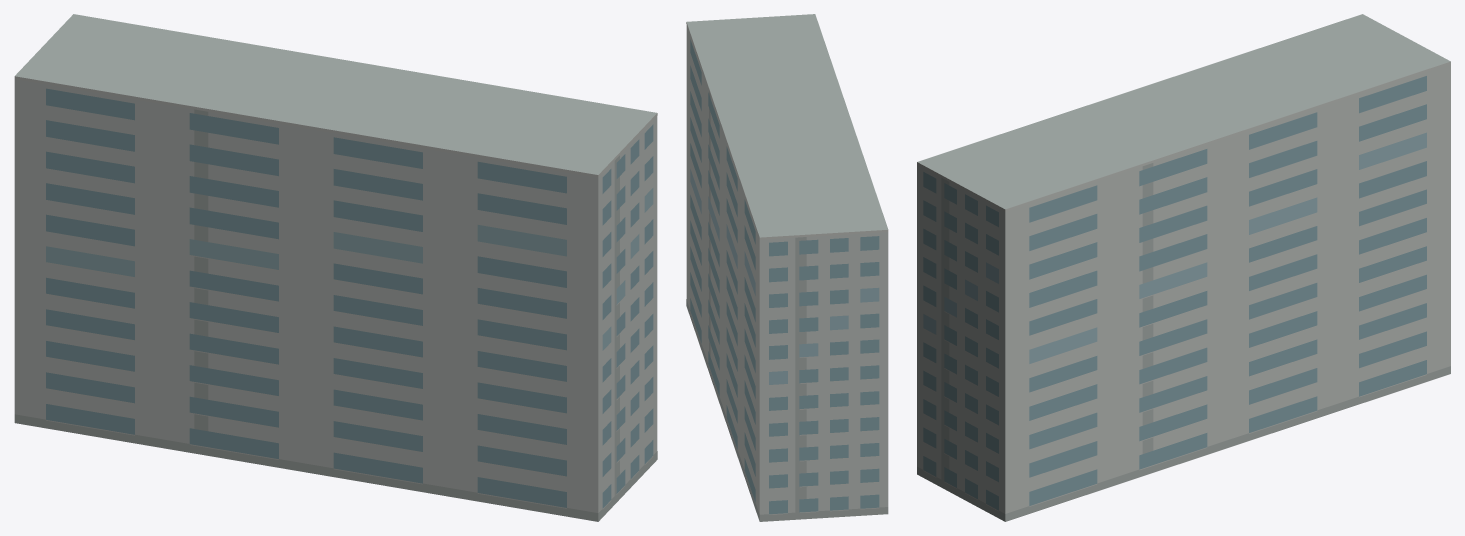
File: residential-0d60701a-5d62-4cfc-86bc-308dcccde386.glb
3 views of the same model, side by side, from view 1: azimuth 30°, elevation 25°; view 2: azimuth 150°, elevation 25°; view 3: azimuth 270°, elevation 25° (orthographic). The views are drawn at different scales.
Parts seen in each view (by area): view 1: residential-0d60701a-5d62-4cfc-86bc-308dcccde386.tmp; view 2: residential-0d60701a-5d62-4cfc-86bc-308dcccde386.tmp; view 3: residential-0d60701a-5d62-4cfc-86bc-308dcccde386.tmp.
Part boxes in pixels (bbox=[...]): residential-0d60701a-5d62-4cfc-86bc-308dcccde386.tmp: bbox=[14, 14, 657, 521]; residential-0d60701a-5d62-4cfc-86bc-308dcccde386.tmp: bbox=[686, 14, 888, 521]; residential-0d60701a-5d62-4cfc-86bc-308dcccde386.tmp: bbox=[917, 14, 1450, 521].
Size of the model in its own units: 41.59 by 31 by 48.01.
